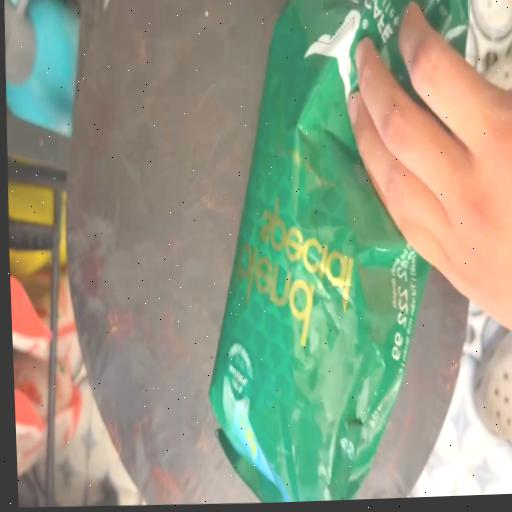cafe_xay: (210, 0, 469, 503)
